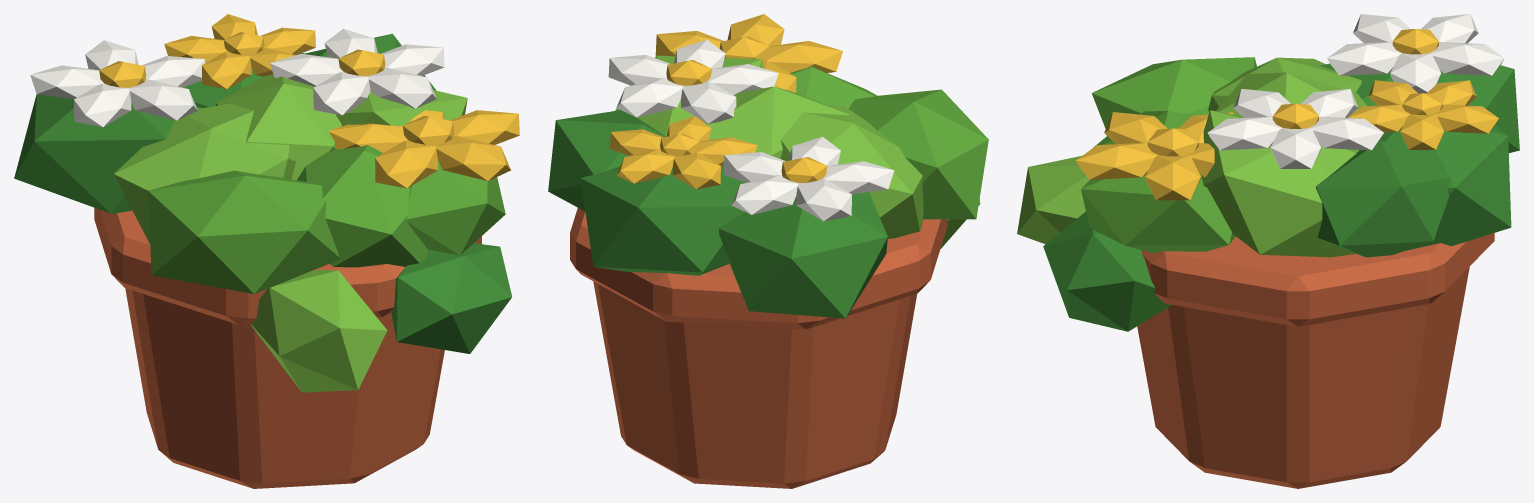
File: plant_flowerpot.glb
3 renders of one model, left to right at view 1: azimuth 30°, elevation 25°; view 2: azimuth 150°, elevation 25°; view 3: azimuth 270°, elevation 25°, orthographic. The views are drawn at different scales.
Parts seen in each view (by area): view 1: plant_flowerpot; view 2: plant_flowerpot; view 3: plant_flowerpot.
Boxes of the visible parts, x1,y1,x2,y2 form: plant_flowerpot: (14, 14, 519, 488); plant_flowerpot: (548, 14, 988, 488); plant_flowerpot: (1017, 14, 1519, 488).
Bounding box in the file's own units: 0.3427 × 0.3245 × 0.405.
